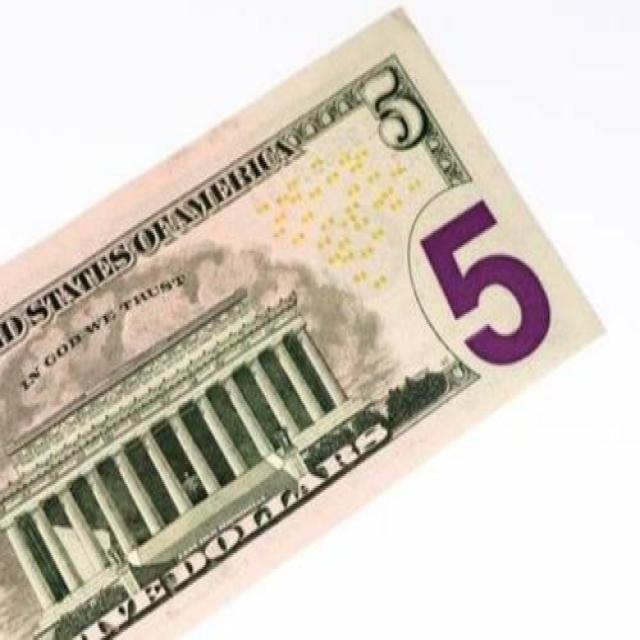5-Back: (0, 6, 611, 640)
